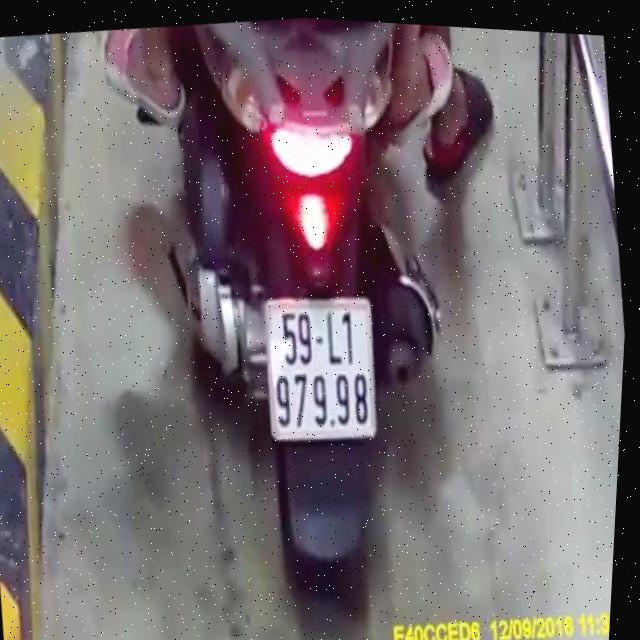motorcycle: (110, 8, 498, 633)
plate: (250, 282, 390, 455)
